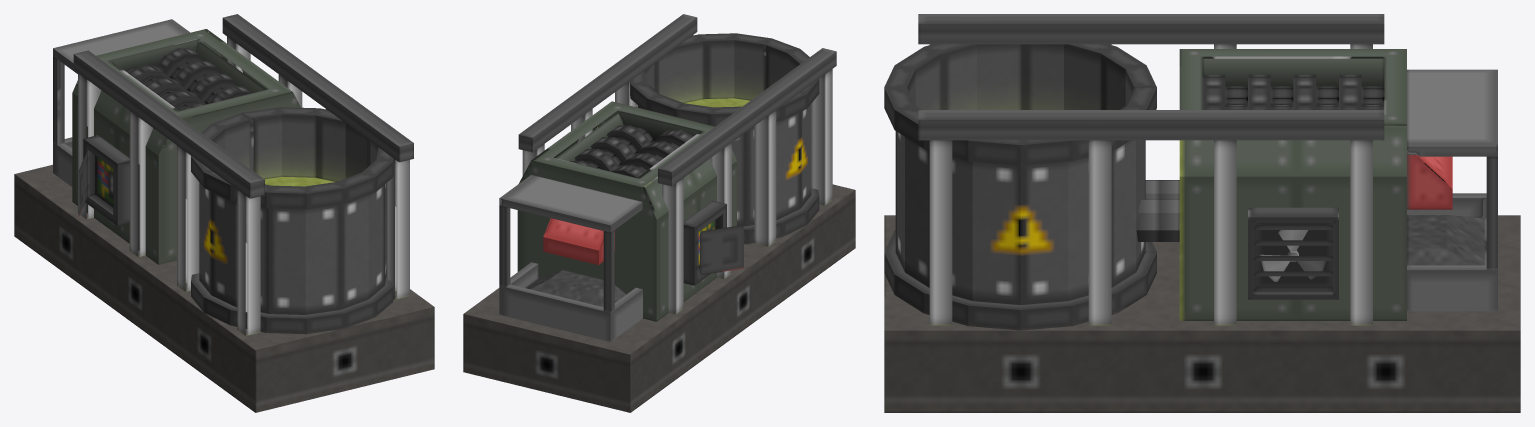
Rendered from ore_processor.obj.
3 views of the same model, side by side, from view 1: azimuth 30°, elevation 25°; view 2: azimuth 150°, elevation 25°; view 3: azimuth 270°, elevation 25° (orthographic). The views are drawn at different scales.
Parts seen in each view (by area): view 1: Base; view 2: Base; view 3: Base.
Boxes of the visible parts, box(x1,y1,x2,y2) form: Base: box(14, 14, 434, 412); Base: box(463, 14, 855, 412); Base: box(884, 14, 1520, 412).
Size of the model in its own units: 3.48 by 3.5 by 7.
